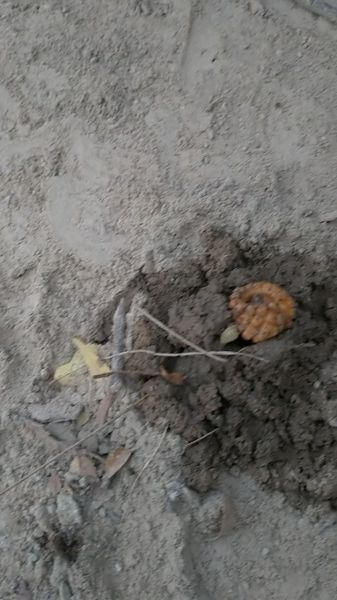eggs: (226, 278, 298, 345)
